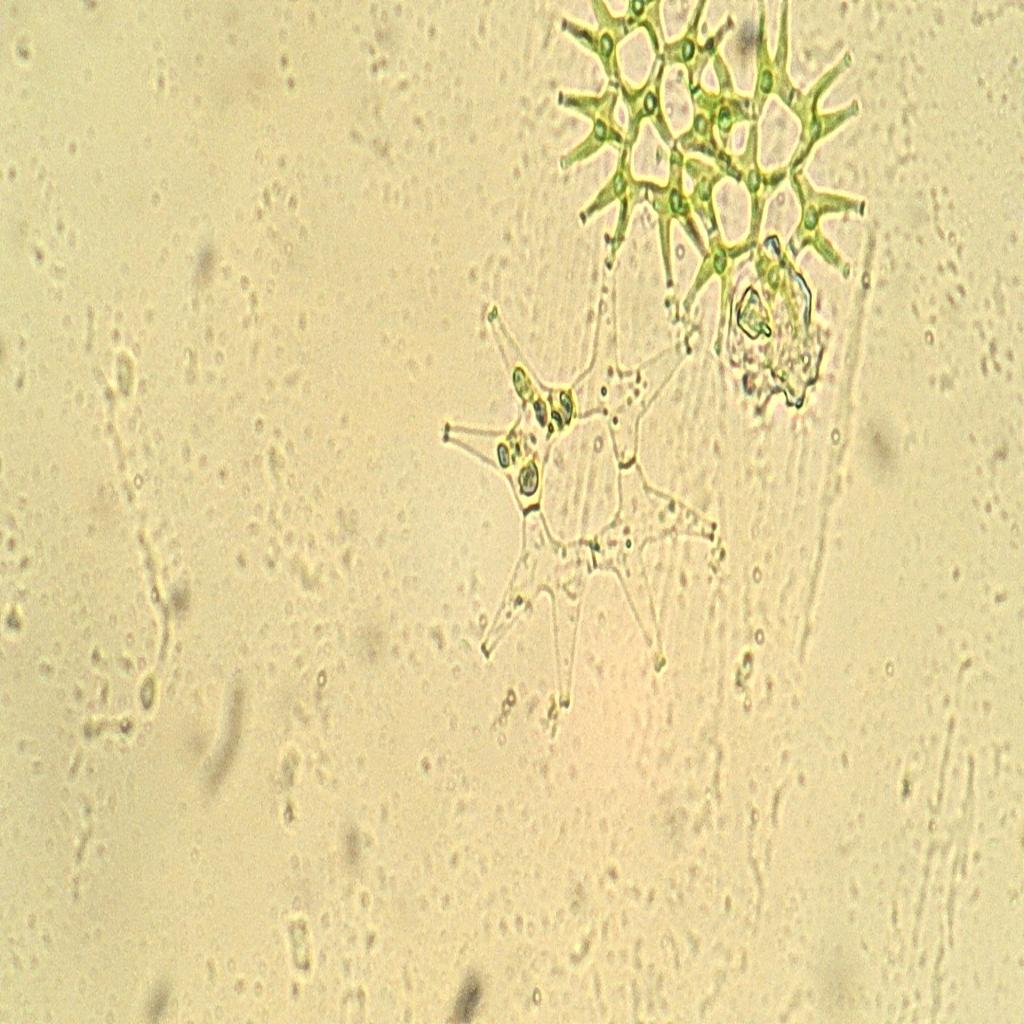Pediastrum_75TH: (436, 222, 748, 727)
